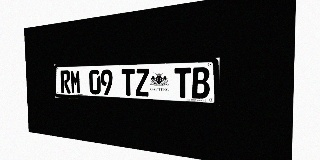0: (89, 70, 101, 95)
9: (100, 69, 113, 95)
B: (192, 67, 210, 99)
M: (70, 70, 81, 94)
R: (60, 70, 71, 93)
T: (174, 67, 191, 98), (121, 69, 135, 96)
Z: (135, 68, 149, 97)
